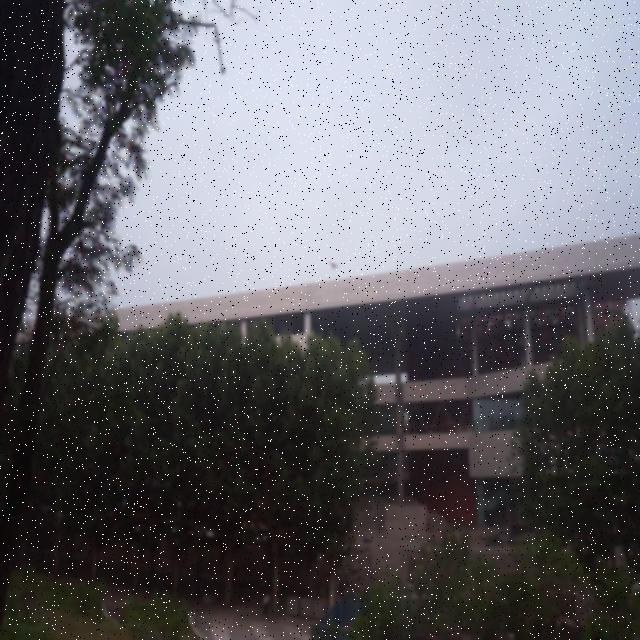UAV: (329, 261, 338, 270)
